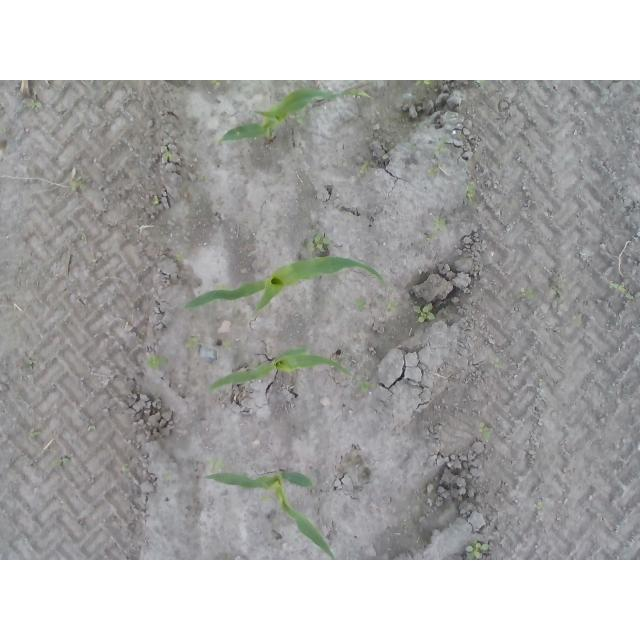Maize: (207, 469, 337, 560), (184, 255, 385, 313), (221, 84, 374, 144), (207, 346, 370, 395)
Weeds: (304, 232, 329, 253), (463, 541, 489, 560), (413, 302, 436, 322), (68, 175, 89, 192), (478, 421, 493, 442), (146, 354, 165, 370), (353, 295, 368, 314), (294, 108, 307, 126), (208, 458, 225, 471), (385, 301, 399, 316), (51, 456, 70, 467), (414, 80, 435, 89), (184, 336, 198, 349), (609, 282, 626, 292), (465, 187, 475, 202), (30, 100, 43, 109), (433, 217, 447, 224), (163, 151, 171, 162)
